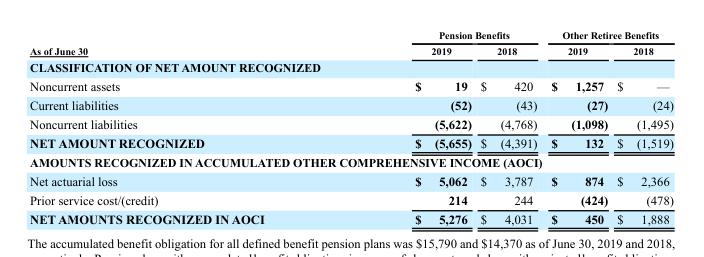table: (29, 28, 672, 225)
table column: (29, 28, 338, 225), (338, 28, 475, 225), (475, 28, 543, 225), (543, 28, 611, 225), (611, 28, 672, 225)
table column header: (29, 28, 672, 58)
table projected row header: (29, 152, 672, 171), (29, 58, 672, 76)
table row: (29, 76, 672, 95), (29, 95, 672, 114), (29, 114, 672, 133), (29, 133, 672, 152), (29, 152, 672, 171), (29, 171, 672, 190), (29, 190, 672, 209), (29, 58, 672, 76), (29, 42, 672, 58), (29, 209, 672, 225), (29, 28, 672, 42)
table spanning cell: (29, 28, 338, 58), (338, 28, 543, 42), (543, 28, 672, 42)
